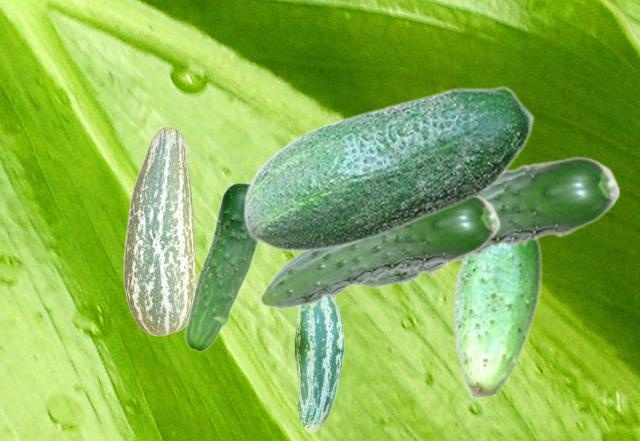cucumber: (242, 85, 534, 251), (351, 156, 620, 287), (259, 196, 500, 308), (123, 126, 196, 335), (452, 240, 541, 399), (183, 182, 258, 351), (294, 297, 343, 432)
